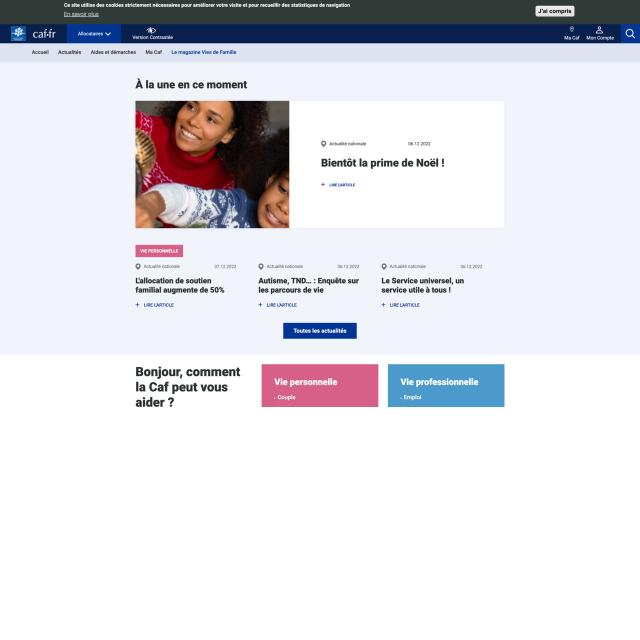CheckBox: (283, 322, 357, 339), (585, 26, 615, 40), (563, 25, 581, 42)
alert: (76, 29, 115, 39)
bag: (1, 24, 640, 63)
breadcrumbs: (134, 362, 244, 413), (133, 74, 250, 92), (258, 276, 360, 296), (134, 276, 226, 296), (380, 276, 465, 296)
copy: (136, 100, 290, 229)
data feed: (293, 327, 349, 335)
date picker: (31, 26, 63, 40)
decoration: (28, 45, 246, 60)
header: (0, 0, 640, 25)
image: (320, 157, 445, 170)
